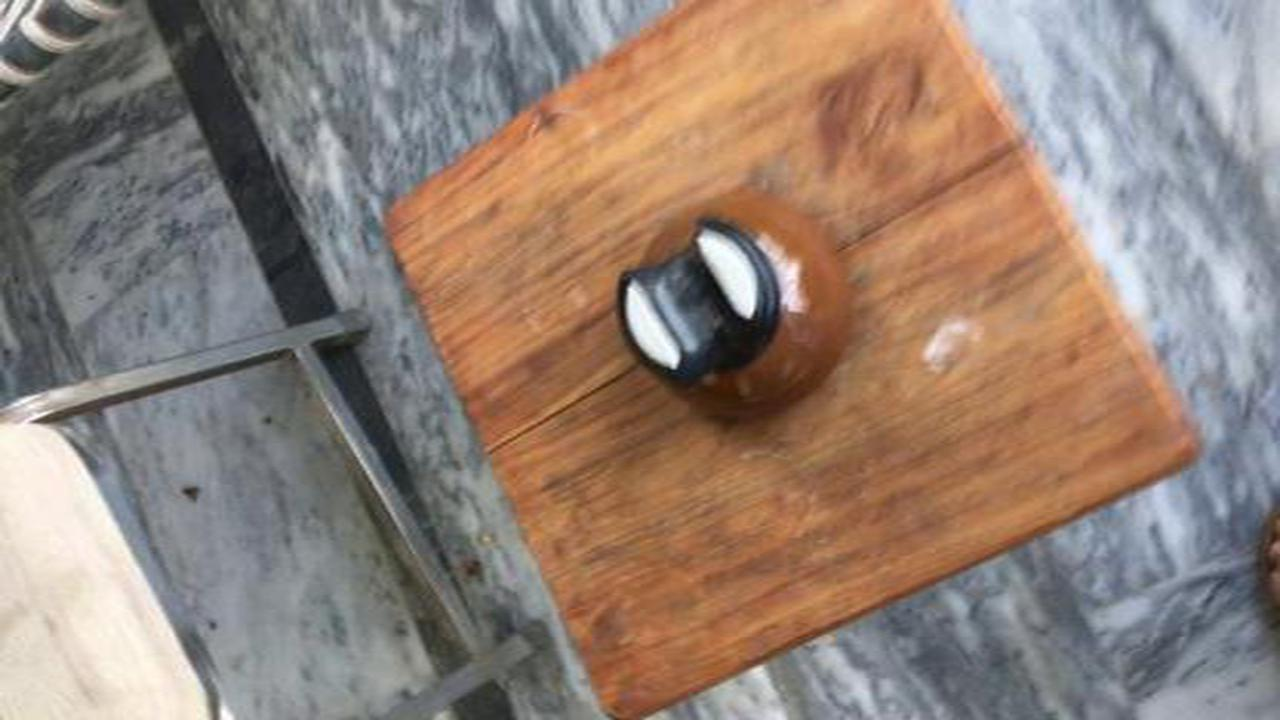insulator_pin: (591, 182, 874, 444)
